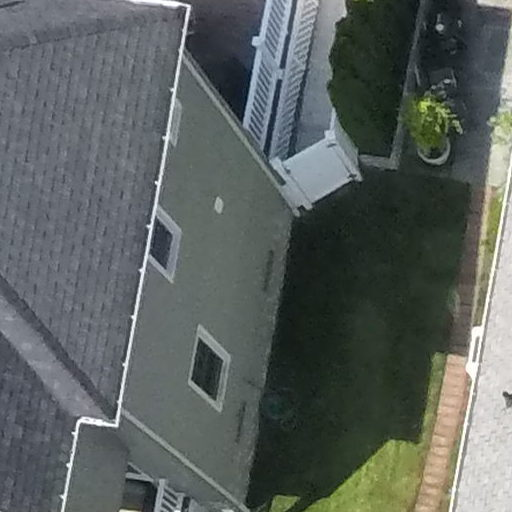container: (416, 133, 458, 168)
flower pot: (401, 96, 457, 168)
